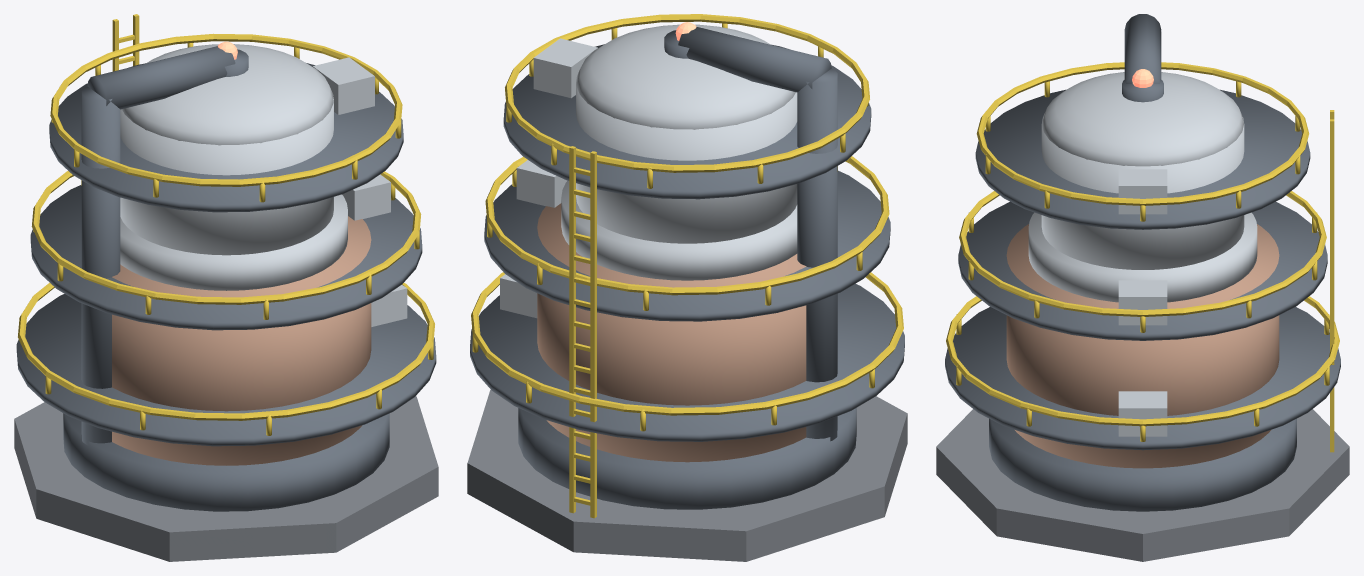
The model's file is fractionator.glb.
The picture shows the model from 3 angles, left to right: view 1: azimuth 30°, elevation 25°; view 2: azimuth 150°, elevation 25°; view 3: azimuth 270°, elevation 25°; orthographic projection. The views are drawn at different scales.
Parts seen in each view (by area): view 1: FracBodyLower, FracPlinth, Deck_0, FracSkirt, Deck_1, FracBodyUpper, Deck_2, FracDome, FracTransition, OverheadDowncomer, DeckRail_2, OverheadCross (+5 smaller); view 2: FracPlinth, FracBodyLower, Deck_0, FracSkirt, FracBodyUpper, Deck_1, Deck_2, FracDome, OverheadDowncomer, FracTransition, DeckRail_2, OverheadCross (+7 smaller); view 3: FracBodyLower, FracPlinth, Deck_0, Deck_2, Deck_1, FracSkirt, FracDome, FracBodyUpper, FracTransition, DeckRail_2, DeckRail_0, DeckRail_1 (+6 smaller).
Part boxes in pixels (bbox=[...]): FracBodyLower: bbox=[112, 216, 371, 465]; FracPlinth: bbox=[14, 396, 438, 561]; Deck_0: bbox=[16, 294, 436, 446]; FracSkirt: bbox=[63, 413, 389, 511]; Deck_1: bbox=[30, 185, 422, 330]; FracBodyUpper: bbox=[120, 95, 333, 255]; Deck_2: bbox=[49, 63, 403, 212]; FracDome: bbox=[122, 44, 333, 145]; FracTransition: bbox=[120, 194, 347, 290]; OverheadDowncomer: bbox=[81, 86, 120, 445]; DeckRail_2: bbox=[50, 33, 402, 186]; OverheadCross: bbox=[87, 46, 235, 109]; FracPlinth: bbox=[467, 390, 907, 561]; FracBodyLower: bbox=[537, 203, 806, 462]; Deck_0: bbox=[470, 283, 904, 441]; FracSkirt: bbox=[518, 408, 856, 509]; FracBodyUpper: bbox=[576, 77, 797, 243]; Deck_1: bbox=[484, 170, 890, 321]; Deck_2: bbox=[503, 44, 871, 199]; FracDome: bbox=[576, 24, 795, 129]; OverheadDowncomer: bbox=[797, 68, 837, 441]; FracTransition: bbox=[561, 180, 797, 280]; DeckRail_2: bbox=[505, 14, 869, 172]; OverheadCross: bbox=[678, 27, 831, 92]; FracBodyLower: bbox=[1006, 224, 1279, 468]; FracPlinth: bbox=[936, 409, 1349, 561]; Deck_0: bbox=[945, 307, 1340, 450]; Deck_2: bbox=[975, 89, 1310, 229]; Deck_1: bbox=[958, 201, 1327, 340]; FracSkirt: bbox=[989, 418, 1296, 511]; FracDome: bbox=[1042, 72, 1243, 166]; FracBodyUpper: bbox=[1041, 117, 1244, 269]; FracTransition: bbox=[1028, 212, 1257, 302]; DeckRail_2: bbox=[976, 62, 1309, 205]; DeckRail_0: bbox=[946, 296, 1339, 426]; DeckRail_1: bbox=[959, 191, 1326, 316].
Size of the model in its own units: 0.94 by 1.02 by 0.94.
